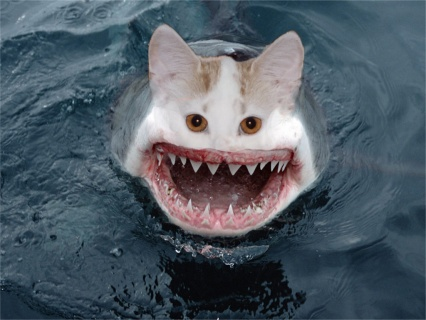Cat: (106, 20, 333, 240)
